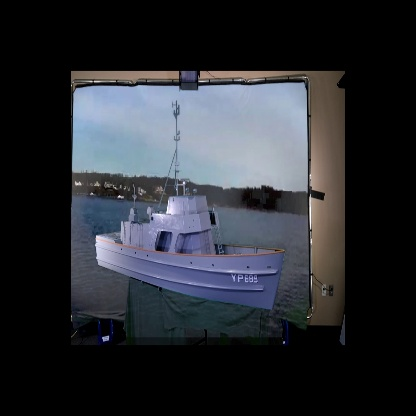YP689: (93, 97, 285, 312)
